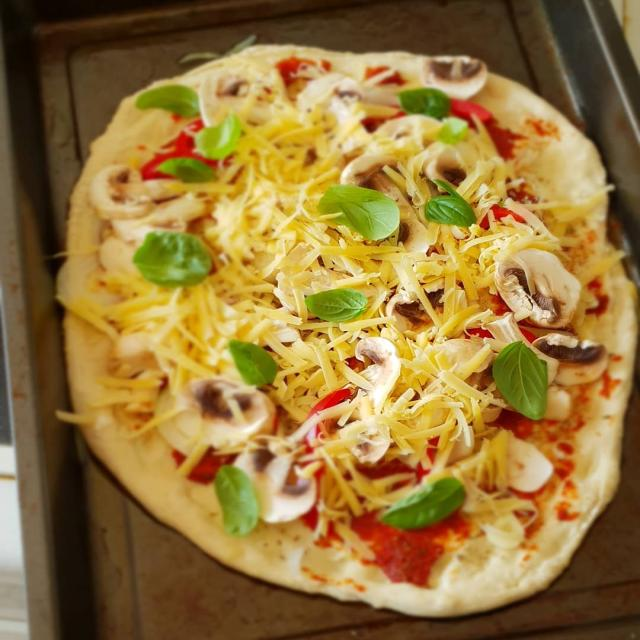mushrooms: (228, 443, 323, 522), (304, 68, 382, 148), (173, 376, 271, 438), (495, 255, 580, 325), (382, 280, 471, 341), (197, 66, 276, 132), (350, 331, 404, 412), (418, 52, 496, 105), (536, 331, 606, 385), (424, 146, 483, 200), (90, 165, 152, 215), (496, 437, 550, 493), (339, 145, 394, 178)
pizza: (52, 44, 640, 624)
